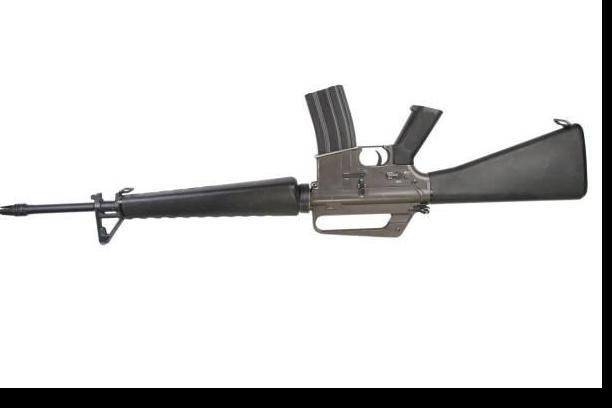larga: (0, 83, 588, 247)
